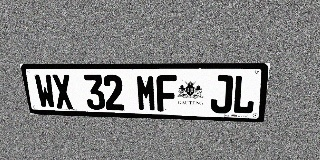2: (103, 74, 124, 111)
3: (83, 74, 106, 110)
F: (156, 75, 177, 112)
J: (210, 75, 233, 114)
L: (232, 75, 257, 114)
M: (136, 75, 157, 111)
W: (33, 74, 57, 109)
X: (51, 74, 74, 109)
